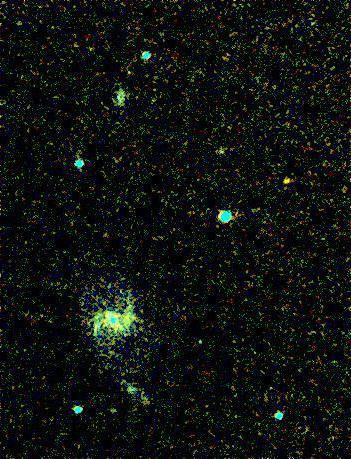star: (272, 166, 302, 196)
